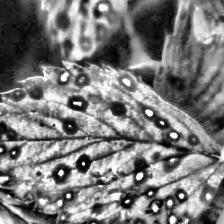Leaf Spot: (0, 61, 224, 224), (26, 0, 135, 65)
